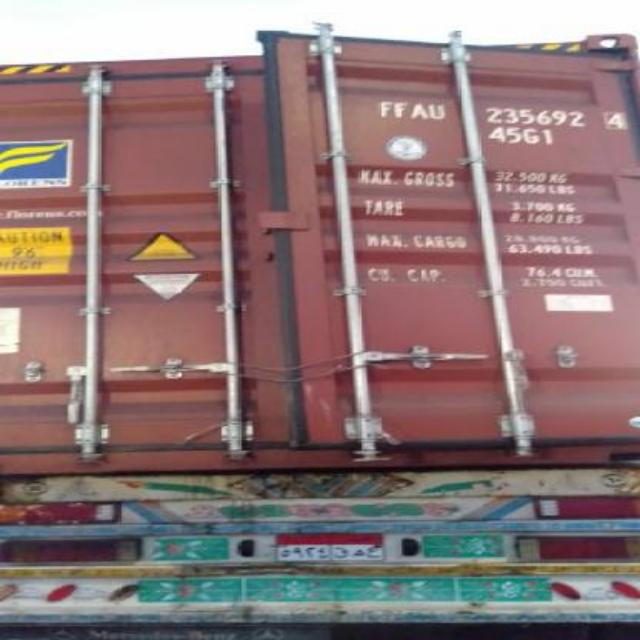2: (566, 106, 588, 130), (484, 105, 504, 125)
3: (502, 107, 520, 125)
4: (602, 110, 626, 130)
5: (518, 106, 538, 126)
6: (536, 106, 552, 126)
9: (552, 106, 570, 126)
A: (412, 102, 430, 122)
F: (371, 99, 392, 117), (394, 100, 410, 118)
U: (426, 102, 448, 122)
